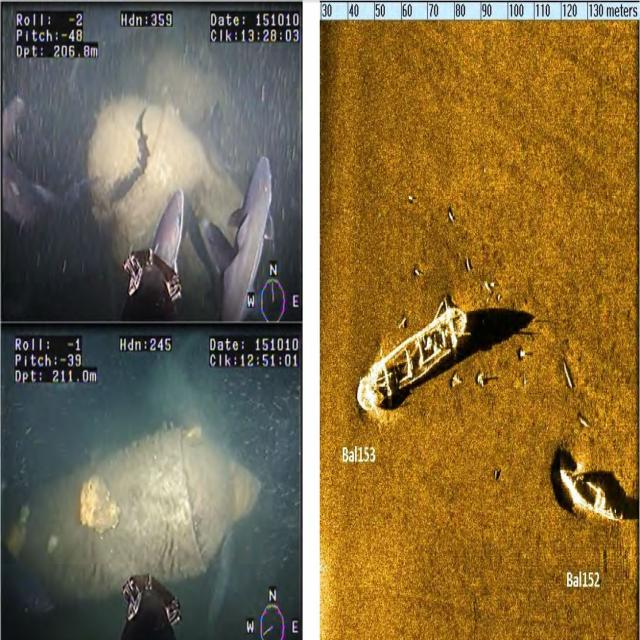ship: (358, 305, 469, 410), (557, 462, 626, 530)
